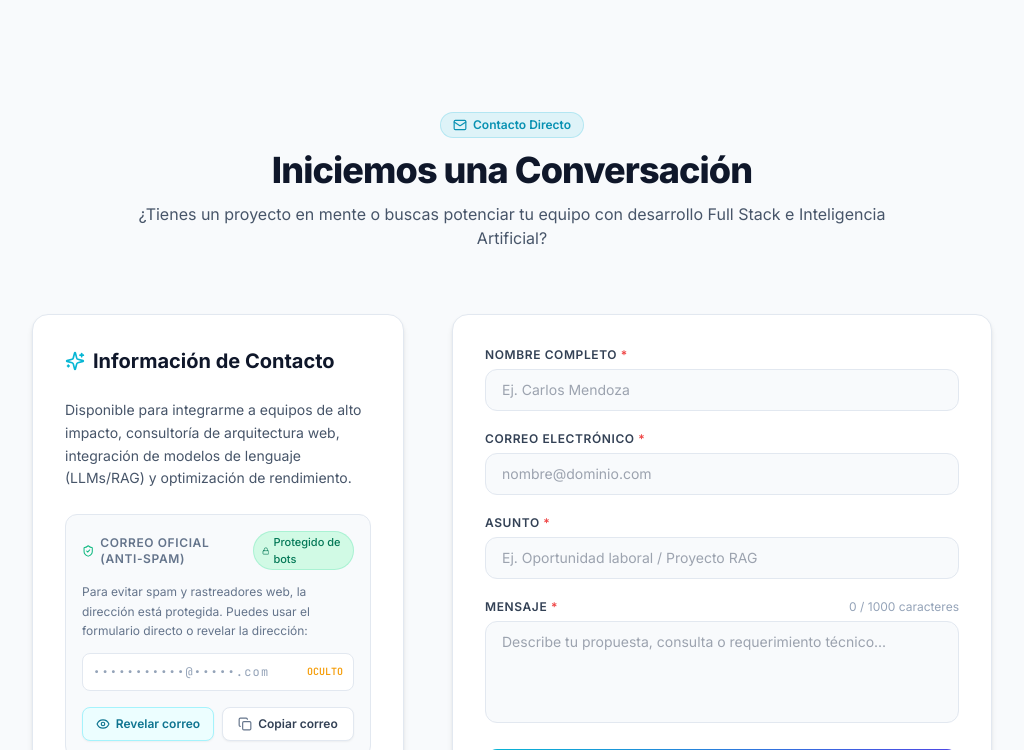
Scenario: Functional Contact Component (Integration Flow) › renders all required form inputs, counter, direct channels, and copy email button
This screenshot has width=1024, height=750.
Check: the field with test id "contact-name-input" is shown, box [485,369,959,411]
Check: the field with test id "contact-email-input" is shown, box [485,453,959,495]
Click the button with test id "reveal-email-button". click: (148, 724)
box: [82,706,214,740]
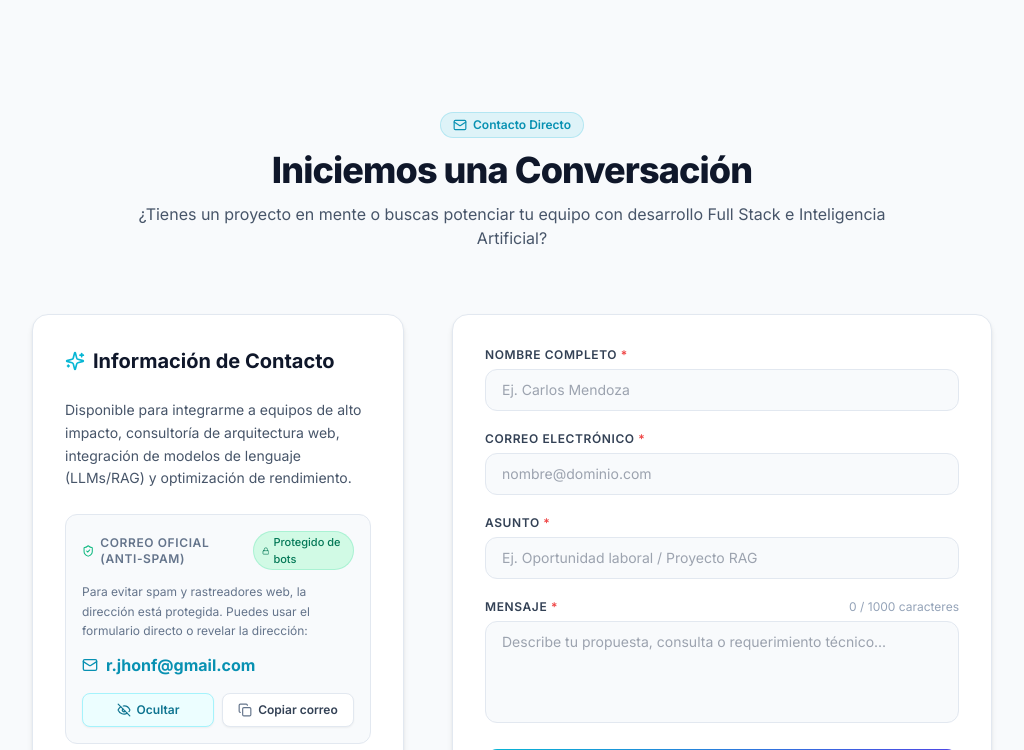
Check: the button with test id "copy-email-button" is shown, box [222,692,354,726]
Check: the link with test id "contact-email-link" is shown, box [82,654,255,674]
